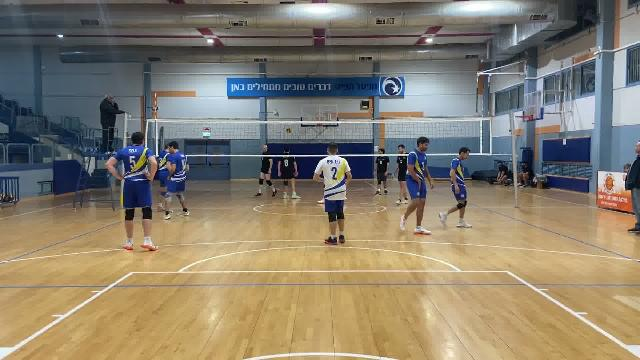ball: (285, 127, 292, 135)
